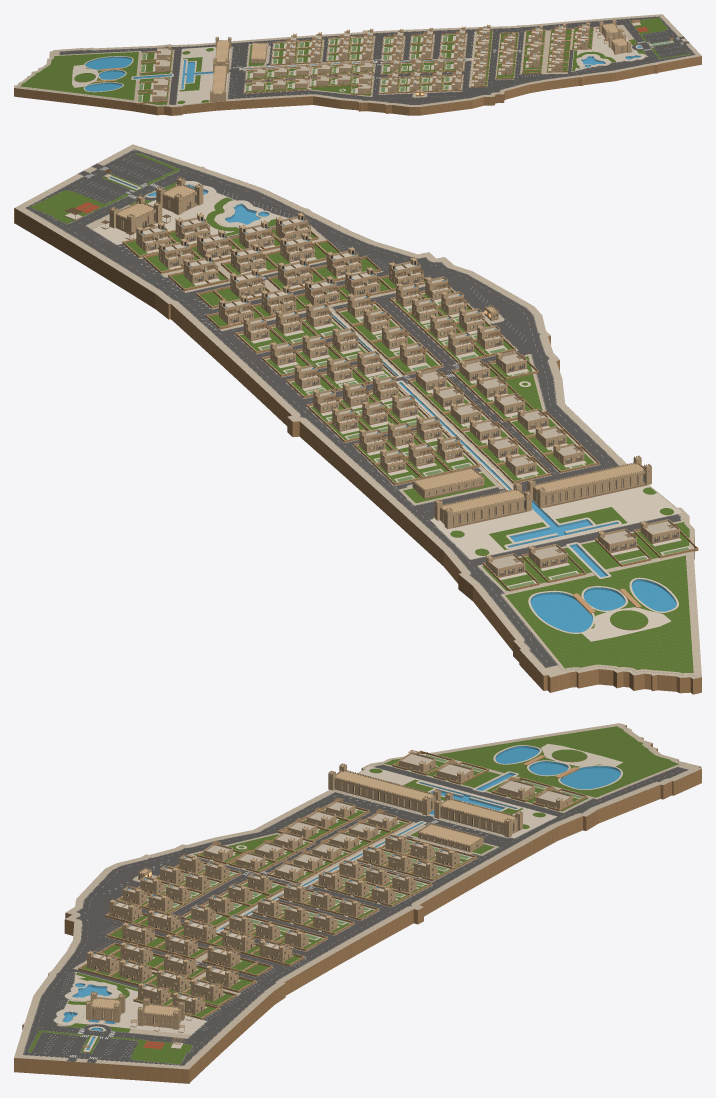
Rendered from Mirleft_Bay_SITE_ONLY_NO_TREES_CARS_compressed.glb.
3 views of the same model, one above another, from view 1: azimuth 30°, elevation 25°; view 2: azimuth 150°, elevation 25°; view 3: azimuth 270°, elevation 25° (orthographic). The views are drawn at different scales.
Visible parts, largest first — view 1: SITE_Road_Asphalt, SITE_Paving_Edge_side, SITE_Paving, GARDEN_WALLS_stone, GARDEN_WALLS_render, SITE_Block_T6_LAKE_PARK_Lawn, SITE_Hotel_Terrace, SITE_Lake_Water, SITE_Lake_Floor, SITE_Block_T3_SOUTH_Lawn, SITE_T1_Club_Plaza, SITE_Block_T6_VILLA_A_Lawn (+28 smaller); view 2: SITE_Road_Asphalt, SITE_Paving, SITE_Paving_Edge_side, SITE_Block_T6_LAKE_PARK_Lawn, GARDEN_WALLS_stone, GARDEN_WALLS_render, SITE_Hotel_Terrace, SITE_Lake_Water, SITE_Lake_Floor, PUB_HOTEL_WING_SOUTH_render, SITE_Block_T6_VILLA_A_Lawn, PUB_HOTEL_WING_NORTH_render (+17 smaller); view 3: SITE_Road_Asphalt, SITE_Paving_Edge_side, SITE_Paving, GARDEN_WALLS_stone, SITE_Block_T6_LAKE_PARK_Lawn, GARDEN_WALLS_render, PUB_HOTEL_WING_SOUTH_render, SITE_Lake_Water, PUB_HOTEL_WING_NORTH_render, SITE_Lake_Floor, SITE_T1_Club_Plaza, SITE_Hotel_Terrace (+13 smaller).
Part boxes in pixels (x1=…): SITE_Road_Asphalt: x1=59, y1=16, x2=695, y2=104; SITE_Paving_Edge_side: x1=14, y1=24, x2=701, y2=115; SITE_Paving: x1=14, y1=14, x2=701, y2=107; GARDEN_WALLS_stone: x1=136, y1=27, x2=593, y2=104; GARDEN_WALLS_render: x1=136, y1=27, x2=593, y2=102; SITE_Block_T6_LAKE_PARK_Lawn: x1=20, y1=52, x2=138, y2=100; SITE_Hotel_Terrace: x1=176, y1=46, x2=230, y2=105; SITE_Lake_Water: x1=85, y1=57, x2=131, y2=91; SITE_Lake_Floor: x1=85, y1=58, x2=131, y2=91; SITE_Block_T3_SOUTH_Lawn: x1=381, y1=62, x2=462, y2=92; SITE_T1_Club_Plaza: x1=571, y1=26, x2=638, y2=71; SITE_Block_T6_VILLA_A_Lawn: x1=138, y1=51, x2=172, y2=104; SITE_Road_Asphalt: x1=26, y1=149, x2=680, y2=667; SITE_Paving: x1=15, y1=144, x2=701, y2=678; SITE_Paving_Edge_side: x1=14, y1=180, x2=701, y2=694; SITE_Block_T6_LAKE_PARK_Lawn: x1=505, y1=555, x2=693, y2=673; GARDEN_WALLS_stone: x1=122, y1=227, x2=698, y2=591; GARDEN_WALLS_render: x1=122, y1=227, x2=697, y2=589; SITE_Hotel_Terrace: x1=430, y1=485, x2=681, y2=559; SITE_Lake_Water: x1=531, y1=579, x2=676, y2=632; SITE_Lake_Floor: x1=530, y1=581, x2=676, y2=632; PUB_HOTEL_WING_SOUTH_render: x1=527, y1=455, x2=651, y2=508; SITE_Block_T6_VILLA_A_Lawn: x1=482, y1=522, x2=689, y2=590; PUB_HOTEL_WING_NORTH_render: x1=434, y1=482, x2=532, y2=528; SITE_Road_Asphalt: x1=23, y1=764, x2=688, y2=1065; SITE_Paving_Edge_side: x1=14, y1=724, x2=701, y2=1083; SITE_Paving: x1=14, y1=723, x2=701, y2=1069; GARDEN_WALLS_stone: x1=78, y1=751, x2=587, y2=1019; SITE_Block_T6_LAKE_PARK_Lawn: x1=436, y1=726, x2=678, y2=797; GARDEN_WALLS_render: x1=78, y1=750, x2=587, y2=1017; PUB_HOTEL_WING_SOUTH_render: x1=328, y1=763, x2=440, y2=815; SITE_Lake_Water: x1=496, y1=746, x2=620, y2=788; PUB_HOTEL_WING_NORTH_render: x1=434, y1=792, x2=523, y2=837; SITE_Lake_Floor: x1=495, y1=748, x2=620, y2=789; SITE_T1_Club_Plaza: x1=64, y1=972, x2=206, y2=1034; SITE_Hotel_Terrace: x1=334, y1=766, x2=556, y2=838.
Size of the model in its own units: 563 by 63.74 by 392.
20 materials, 10 textured.
